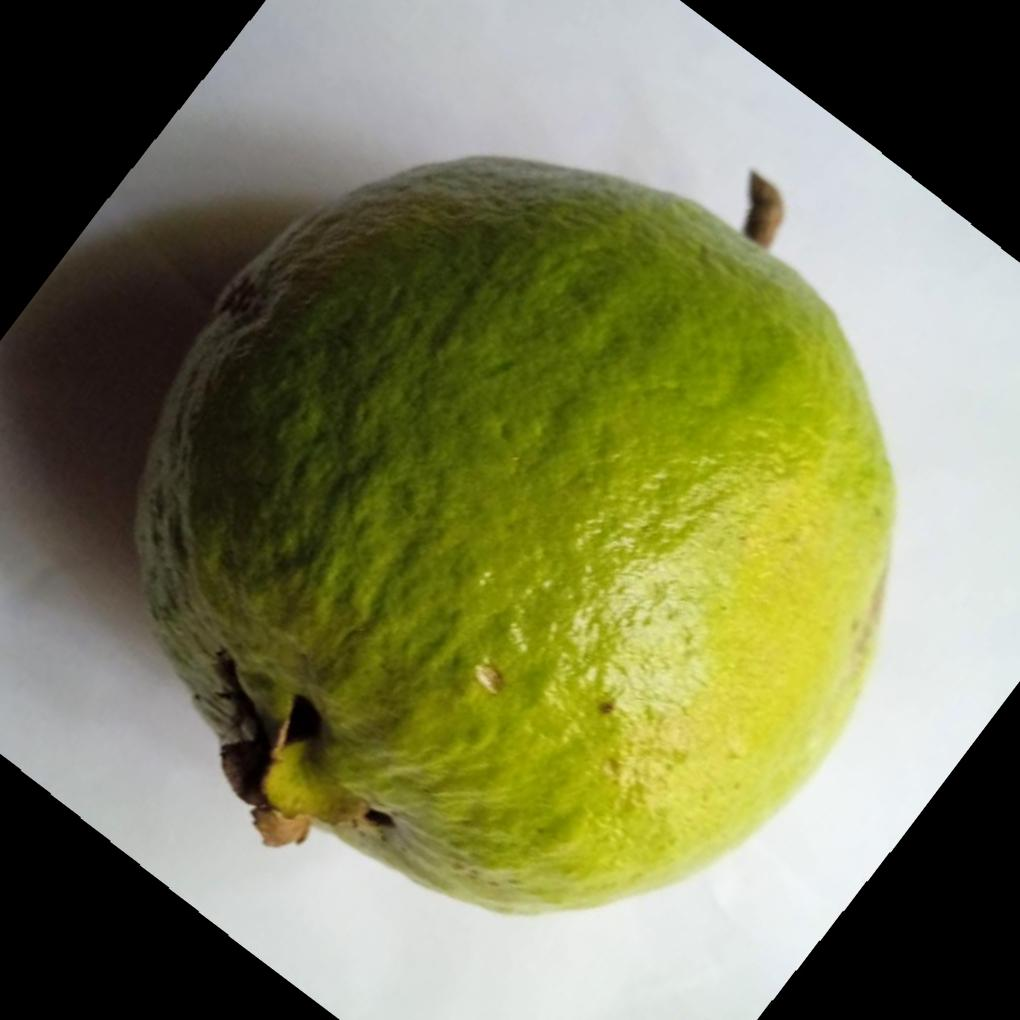FreshGuava: (134, 150, 900, 916)
